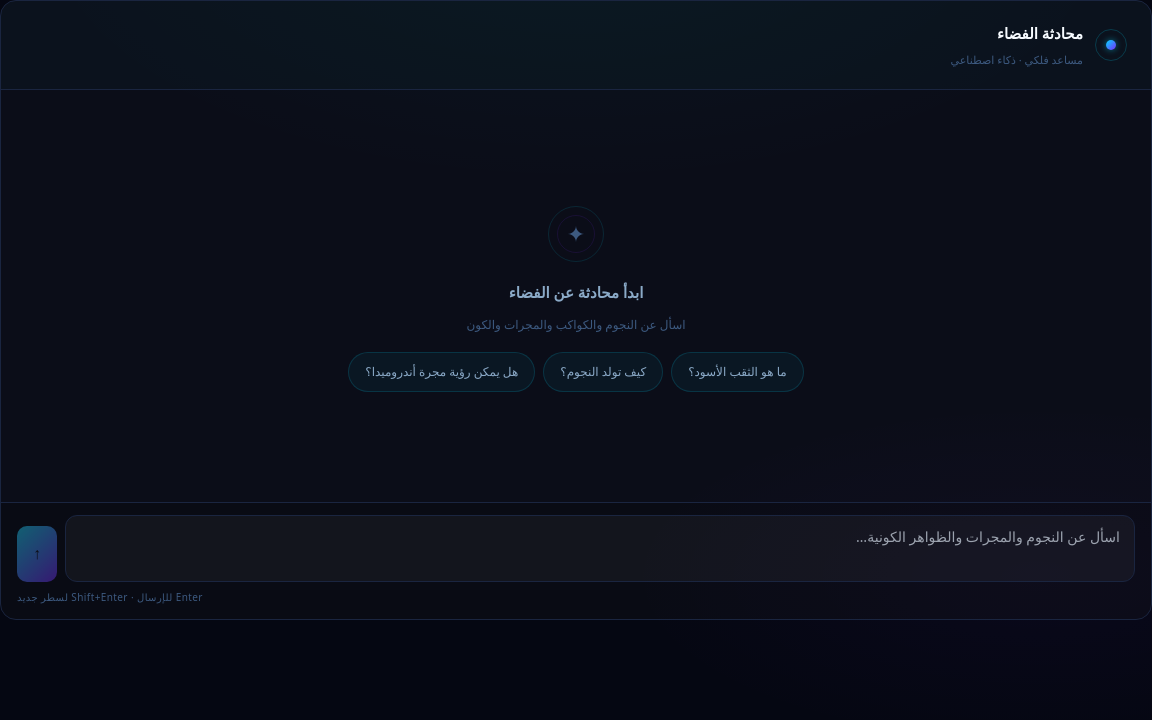
Test: SpaceChat › shows loading indicator while waiting
Type "سؤال" into the text box with test id "chat-input".
click(600, 548); type("سؤال")  # box [65,515,1135,582]
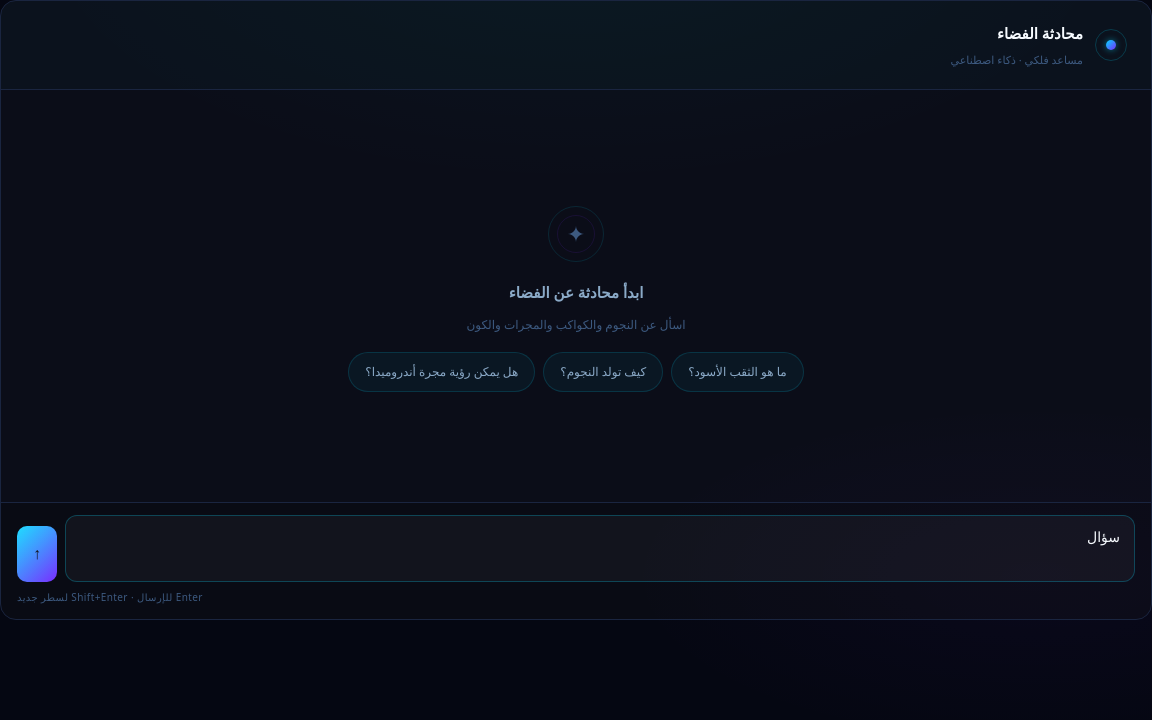
Click the button with test id "chat-send".
click(37, 554)  # box [17,526,57,582]
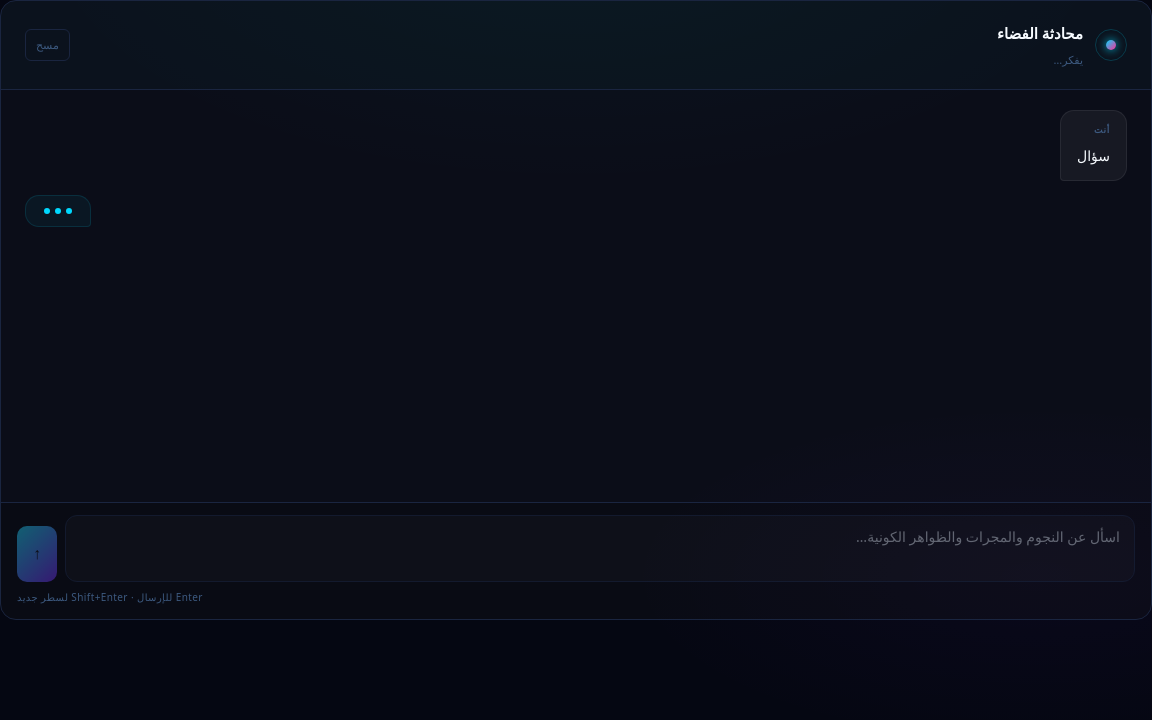
Check: the element with test id "chat-loading" is shown, box [25,195,91,227]
